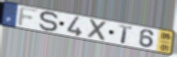4: (66, 16, 84, 38)
6: (139, 29, 155, 49)
F: (16, 6, 41, 28)
S: (39, 11, 60, 33)
T: (118, 24, 133, 45)
X: (87, 18, 110, 42)
